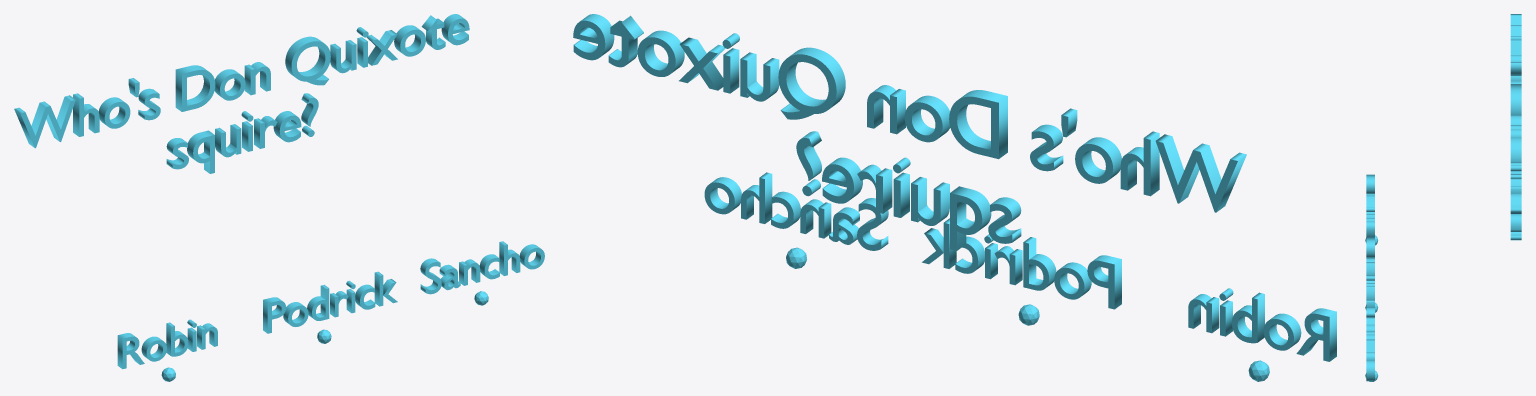
File: console_test_014.fbx
The picture shows the model from 3 angles, left to right: view 1: azimuth 30°, elevation 25°; view 2: azimuth 150°, elevation 25°; view 3: azimuth 270°, elevation 25°; orthographic projection. The views are drawn at different scales.
Parts seen in each view (by area): view 1: Txt_Test_01.059, Failure.033, Success.004, Failure.037; view 2: Txt_Test_01.059, Failure.033, Success.004, Failure.037; view 3: Txt_Test_01.059, Success.004, Failure.033, Failure.037.
Part boxes in pixels (x1,y1,x2,y2): Txt_Test_01.059: [14, 14, 469, 173]; Failure.033: [263, 271, 397, 333]; Success.004: [420, 241, 544, 294]; Failure.037: [117, 319, 217, 369]; Txt_Test_01.059: [573, 14, 1246, 250]; Failure.033: [922, 218, 1121, 309]; Success.004: [704, 172, 888, 250]; Failure.037: [1188, 288, 1336, 361]; Txt_Test_01.059: [1510, 14, 1521, 240]; Success.004: [1366, 308, 1374, 381]; Failure.033: [1366, 237, 1374, 307]; Failure.037: [1366, 174, 1374, 237].
Size of the model in its own units: 1.76 by 0.8589 by 0.5984.
